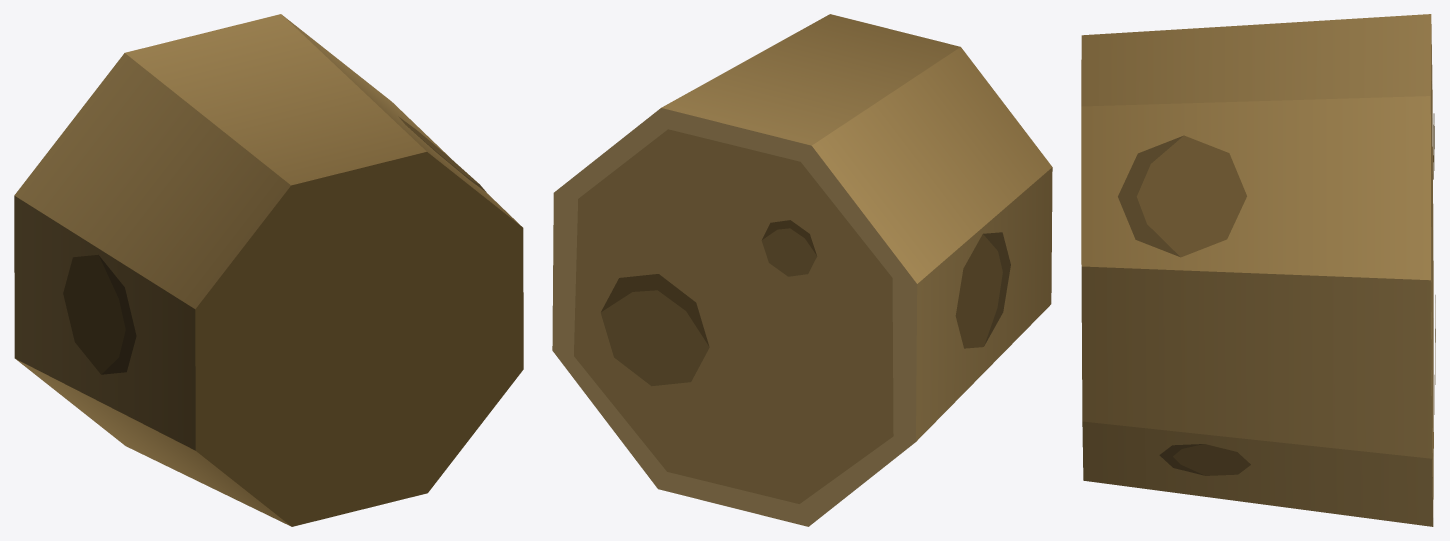
Rendered from Cork.fbx.
3 renders of one model, left to right at view 1: azimuth 30°, elevation 25°; view 2: azimuth 150°, elevation 25°; view 3: azimuth 270°, elevation 25°, orthographic. The views are drawn at different scales.
Parts seen in each view (by area): view 1: Cork; view 2: Cork; view 3: Cork.
Part boxes in pixels (box(x1,y1,x2,y2)): Cork: box(14, 14, 523, 526); Cork: box(552, 14, 1052, 526); Cork: box(1081, 14, 1435, 526).
Size of the model in its own units: 24.64 by 24.64 by 18.38.
